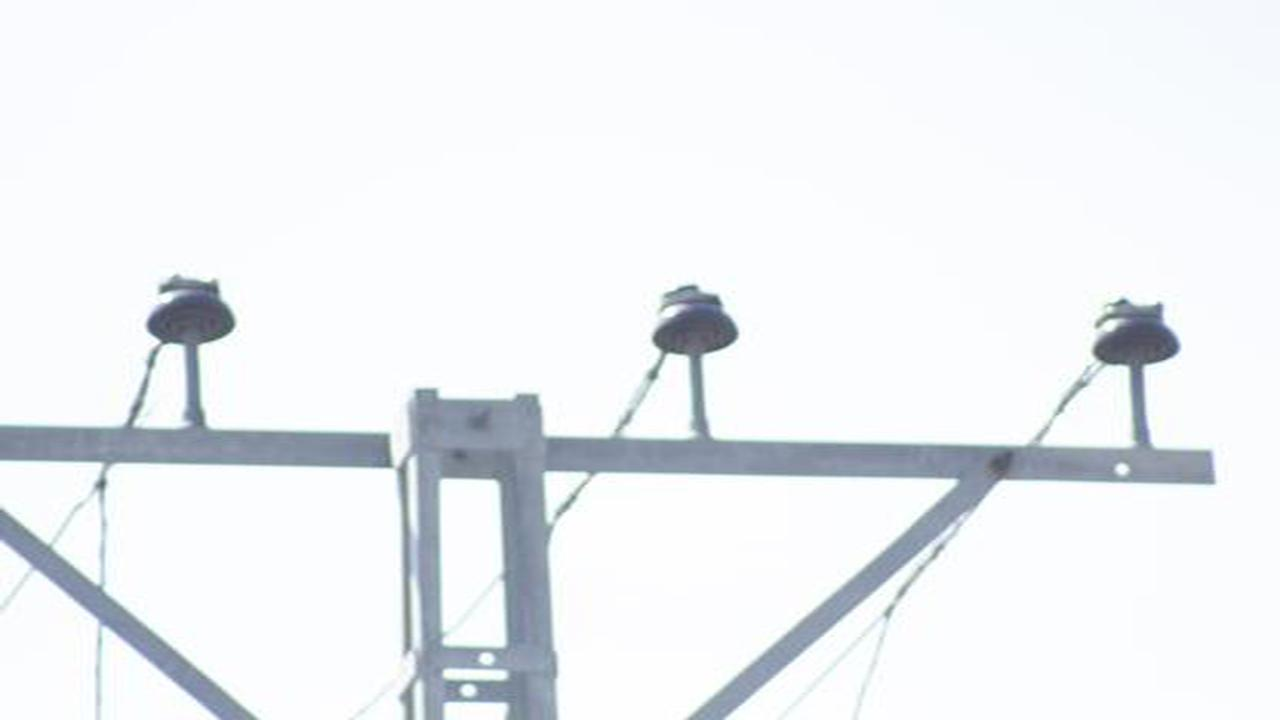insulator_pin: (143, 264, 237, 350), (1087, 293, 1185, 374), (647, 278, 742, 360)
